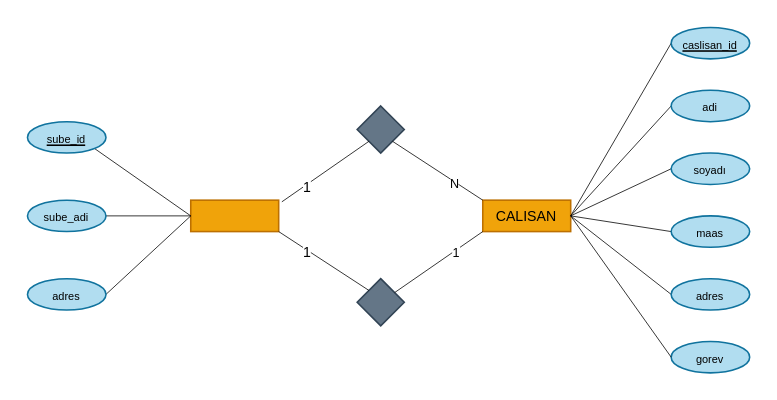
Some shapes in this 777 by 400 pixel diagram are drawn without their labels. The shapes that lost their labels are listed below. From the top down, each one's centre as x and y in pixels, then its label:
point 380,128: Calisir
point 234,215: SUBE
point 380,301: Yönetir
